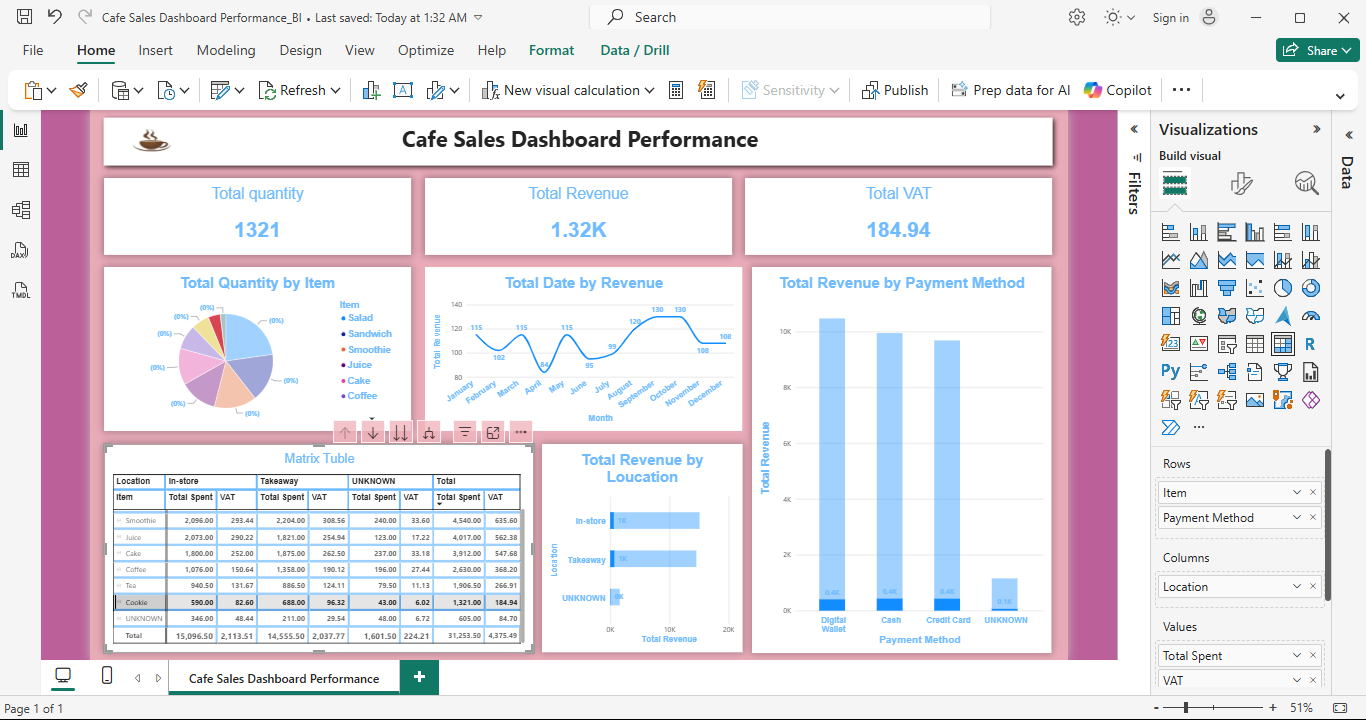

Layout of this report page (visuals, bound fields, positions):
{"tool":"powerbi","page":{"name":"Cafe Sales Dashboard Performance ","canvas":[1920,1080],"ordinal":0},"visuals":[{"type":"pieChart","title":"Total  Quantity by Item","fields":{"Category":["Cafe_sales_clean.Item"],"Y":["Sum(Cafe_sales_clean.Total Spent)"]},"box":[26.8,307.6,602.8,322.1],"z":0},{"type":"shape","box":[12.4,0,1893.2,123.9],"z":1000},{"type":"textbox","box":[46.3,15.4,1842.6,92.6],"z":2000},{"type":"card","title":"Total quantity","fields":{"Values":["Sum(Cafe_sales_clean.Quantity)"]},"box":[26.8,134.2,602.8,150.7],"z":3000},{"type":"card","title":"Total VAT","fields":{"Values":["Cafe_sales_clean.VAT"]},"box":[1286.2,134.2,602.8,150.7],"z":4000},{"type":"card","title":"Total Revenue","fields":{"Values":["Sum(Cafe_sales_clean.Total Spent)"]},"box":[658.6,134.2,602.8,150.7],"z":5000},{"type":"lineChart","title":"Total  Date by Revenue","fields":{"Category":["Cafe_sales_clean.Transaction Date.Variation.Date Hierarchy.Year","Cafe_sales_clean.Transaction Date.Variation.Date Hierarchy.Quarter","Cafe_sales_clean.Transaction Date.Variation.Date Hierarchy.Month"],"Y":["Sum(Cafe_sales_clean.Total Spent)"]},"box":[658.6,307.6,623.5,322.1],"z":6000},{"type":"pivotTable","title":"Matrix Tuble","fields":{"Columns":["Cafe_sales_clean.Location"],"Rows":["Cafe_sales_clean.Item","Cafe_sales_clean.Payment Method"],"Values":["Sum(Cafe_sales_clean.Total Spent)","Cafe_sales_clean.VAT"]},"box":[26.8,656.5,844.4,408.8],"z":7000},{"type":"columnChart","title":"Total Revenue by Payment Method","fields":{"Category":["Cafe_sales_clean.Payment Method"],"Y":["Sum(Cafe_sales_clean.Total Spent)"]},"box":[1300.6,307.6,588.4,757.7],"z":8000},{"type":"barChart","title":"Total Revenue by  Loucation","fields":{"Category":["Cafe_sales_clean.Location"],"Y":["Sum(Cafe_sales_clean.Total Spent)"]},"box":[887.7,656.5,394.3,408.8],"z":8001},{"type":"image","box":[46.3,15.4,147.7,90.4],"z":8002}]}

Visuals, with their boxes on the page's 1920x1080 design canvas (x1, y1, x2, y2). These are canvas units, not pixel positions in the 1366x720 screenshot, which may show the page scaled, cropped or inside an application window:
"Total  Quantity by Item" pieChart: (27,308,630,630)
shape: (12,0,1906,124)
textbox: (46,15,1889,108)
"Total quantity" card: (27,134,630,285)
"Total VAT" card: (1286,134,1889,285)
"Total Revenue" card: (659,134,1261,285)
"Total  Date by Revenue" lineChart: (659,308,1282,630)
"Matrix Tuble" pivotTable: (27,656,871,1065)
"Total Revenue by Payment Method" columnChart: (1301,308,1889,1065)
"Total Revenue by  Loucation" barChart: (888,656,1282,1065)
image: (46,15,194,106)
